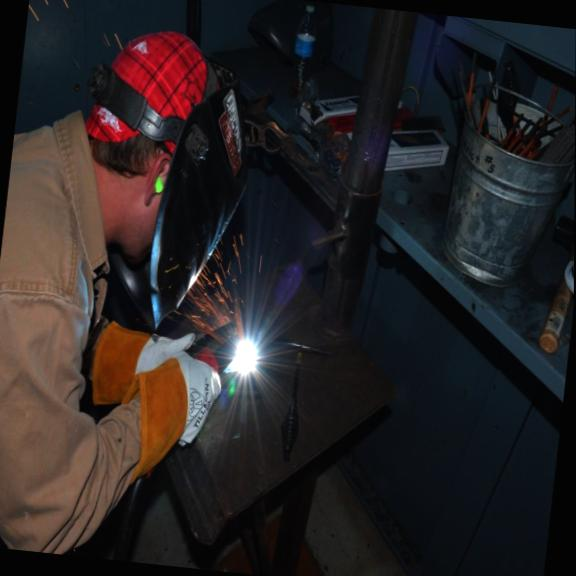no_safety_vest: (0, 99, 141, 520)
